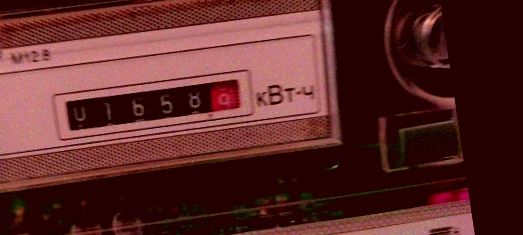0: (68, 99, 88, 122)
1: (98, 96, 115, 122)
5: (155, 89, 175, 116)
6: (127, 92, 148, 119)
8: (183, 85, 203, 109)
9: (213, 89, 232, 112)
screen: (47, 61, 259, 148)
